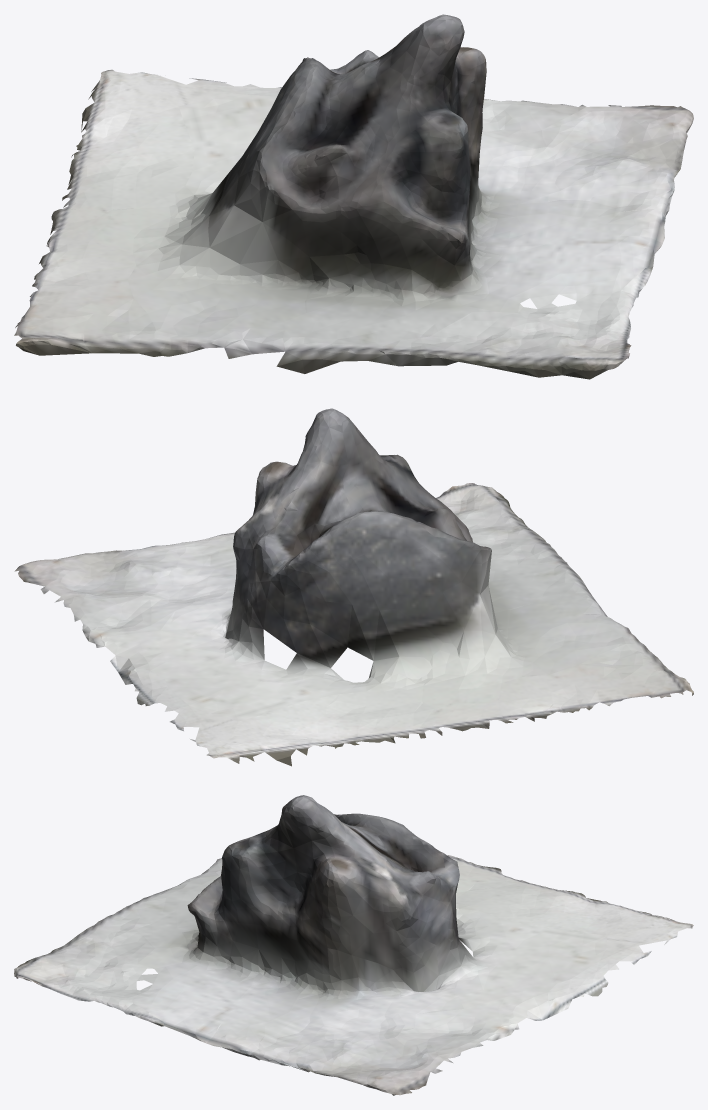
File: onigawara.glb
3 renders of one model, top to bottom at view 1: azimuth 30°, elevation 25°; view 2: azimuth 150°, elevation 25°; view 3: azimuth 270°, elevation 25°, orthographic. The views are drawn at different scales.
Parts seen in each view (by area): view 1: mesh; view 2: mesh; view 3: mesh.
Part boxes in pixels (<box>): mesh: <box>14,14,693,379</box>; mesh: <box>14,408,693,766</box>; mesh: <box>14,795,693,1095</box>.
Size of the model in its own units: 0.5186 by 0.1635 by 0.51.
Materials: 1 (1 with a texture image).
